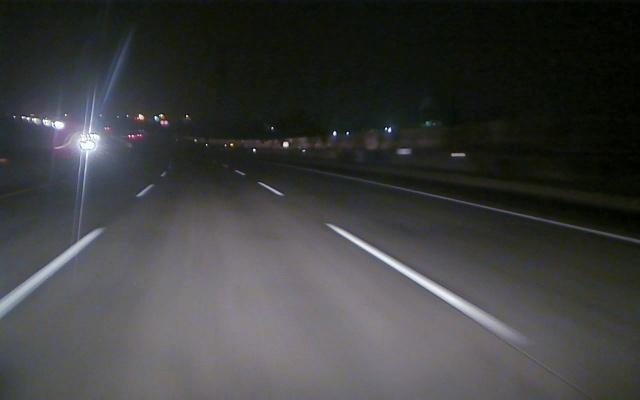lane: (262, 184, 531, 345), (1, 185, 151, 317), (385, 183, 640, 243)
